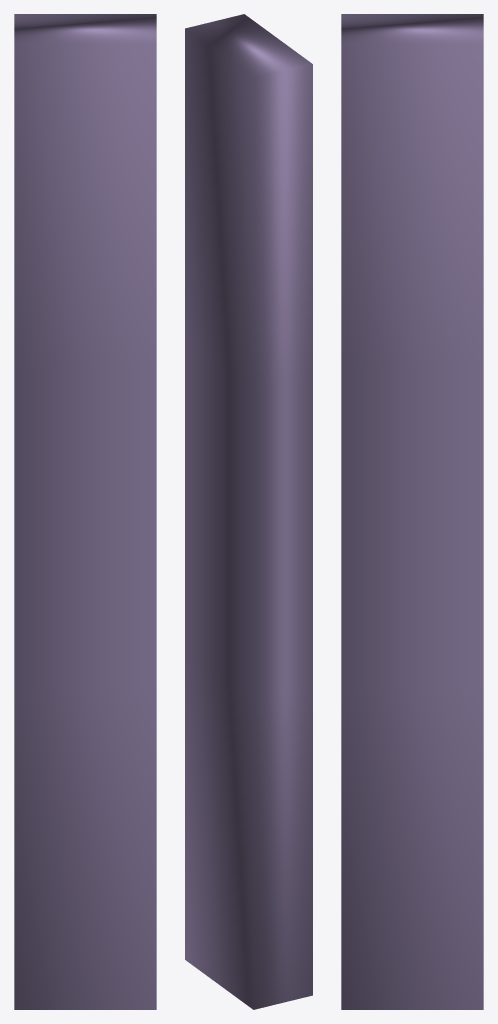
The model's file is Wall_Orn_01_x3.fbx.
3 views of the same model, side by side, from view 1: azimuth 90°, elevation 25°; view 2: azimuth 210°, elevation 25°; view 3: azimuth 270°, elevation 25° (orthographic). The views are drawn at different scales.
Parts seen in each view (by area): view 1: Wall_Orn_01_x3; view 2: Wall_Orn_01_x3; view 3: Wall_Orn_01_x3.
Boxes of the visible parts, box(x1,y1,x2,y2) form: Wall_Orn_01_x3: box(14, 14, 156, 1009); Wall_Orn_01_x3: box(185, 14, 312, 1009); Wall_Orn_01_x3: box(341, 14, 483, 1009).
Bounding box in the file's own units: 30 × 450 × 60.
